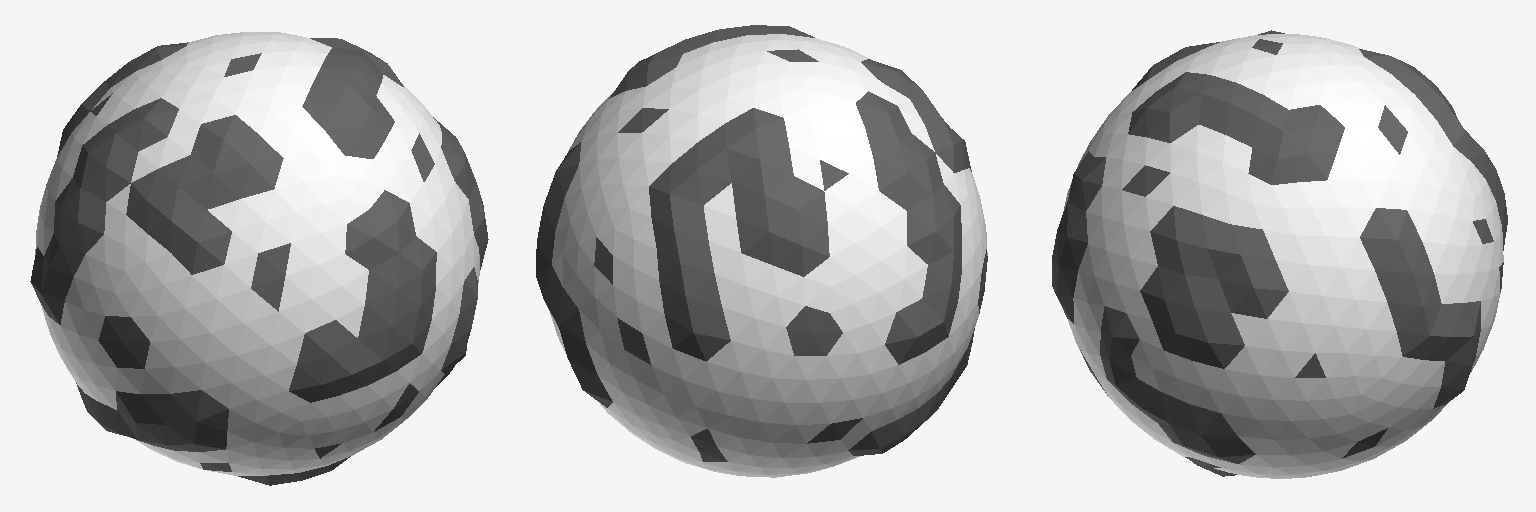
The model's file is Sun.obj.
3 views of the same model, side by side, from view 1: azimuth 30°, elevation 25°; view 2: azimuth 150°, elevation 25°; view 3: azimuth 270°, elevation 25° (orthographic).
Visible parts, largest first — view 1: Icosphere.005_Icosphere.001; view 2: Icosphere.005_Icosphere.001; view 3: Icosphere.005_Icosphere.001.
Part boxes in pixels (x1,y1,x2,y2): Icosphere.005_Icosphere.001: (30,32,488,485); Icosphere.005_Icosphere.001: (536,25,987,477); Icosphere.005_Icosphere.001: (1052,30,1507,478).
Size of the model in its own units: 248 by 246 by 251.